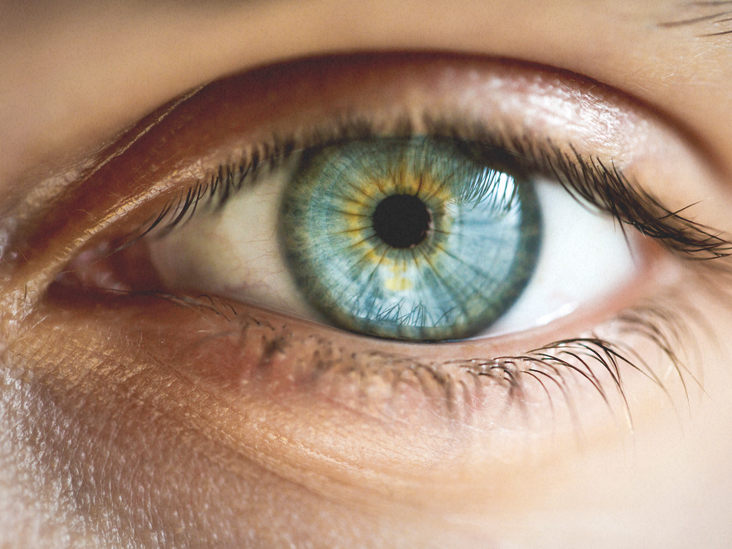iris: (276, 114, 543, 342)
pupil: (374, 191, 432, 250)
